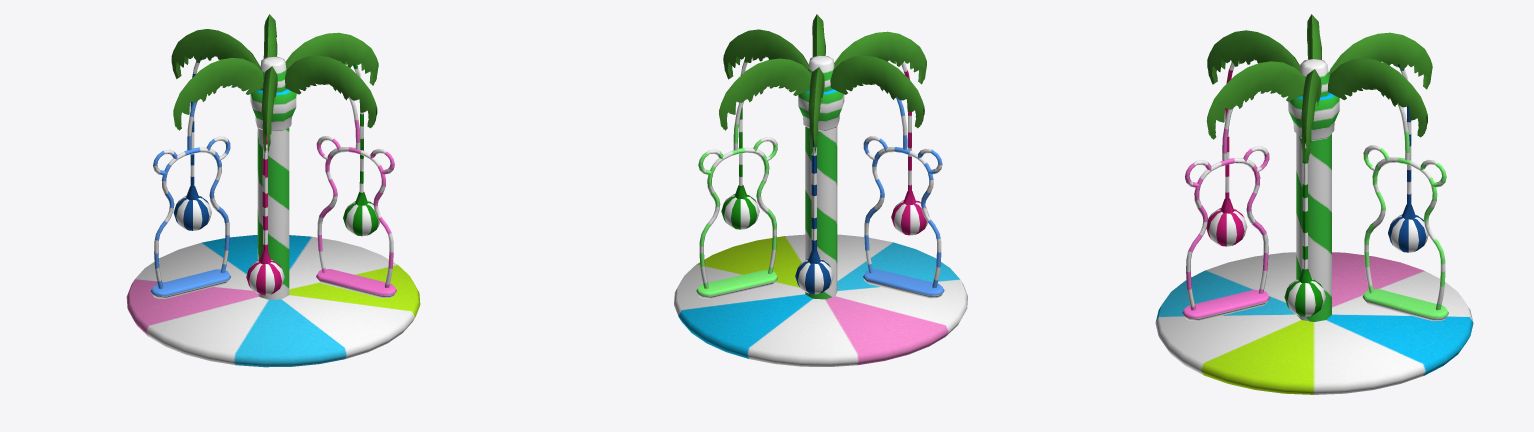
Rendered from bear_tree.DAE.
3 renders of one model, left to right at view 1: azimuth 30°, elevation 25°; view 2: azimuth 150°, elevation 25°; view 3: azimuth 270°, elevation 25°, orthographic. The views are drawn at different scales.
Parts seen in each view (by area): view 1: bear_tree; view 2: bear_tree; view 3: bear_tree.
Boxes of the visible parts, <box> form: bear_tree: <box>126,14,420,367</box>; bear_tree: <box>674,14,967,366</box>; bear_tree: <box>1155,14,1473,394</box>.
Size of the model in its own units: 3415 by 3415 by 2608.
Materials: 3 (3 with a texture image).
